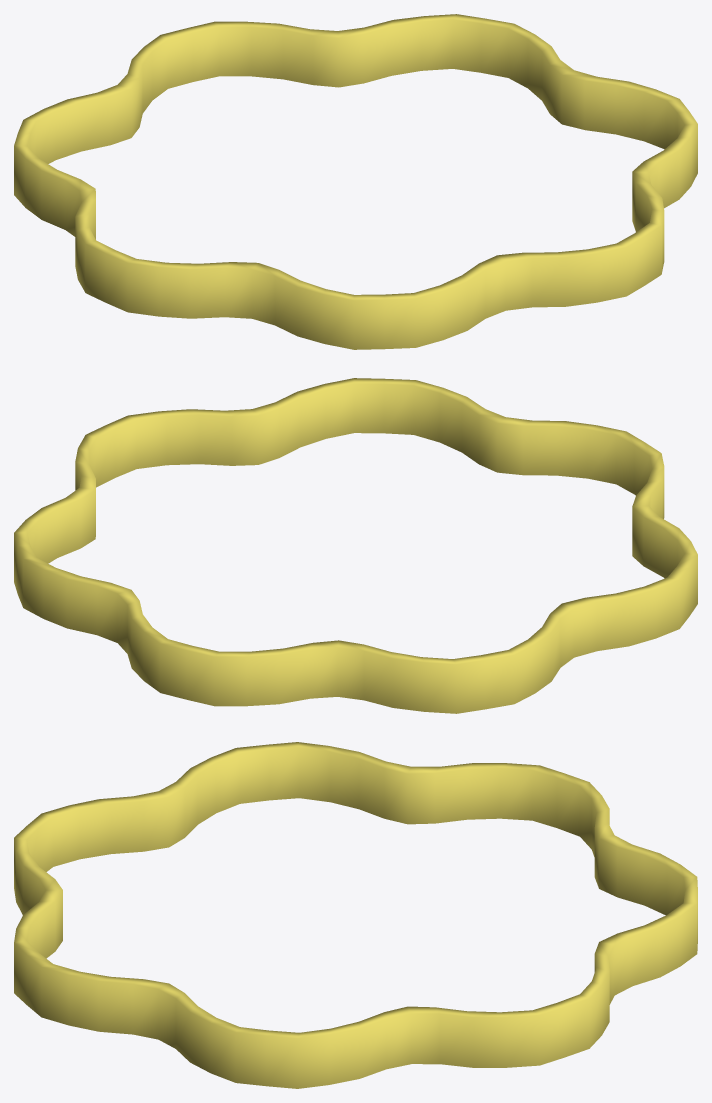
The model's file is WallsEnclosed.fbx.
The picture shows the model from 3 angles, top to bottom: view 1: azimuth 30°, elevation 25°; view 2: azimuth 150°, elevation 25°; view 3: azimuth 270°, elevation 25°; orthographic projection. The views are drawn at different scales.
Visible parts, largest first — view 1: WallsConnected; view 2: WallsConnected; view 3: WallsConnected.
Boxes of the visible parts, x1,y1,x2,y2 form: WallsConnected: (14, 14, 697, 349); WallsConnected: (14, 378, 697, 713); WallsConnected: (14, 742, 697, 1088).
Bounding box in the file's own units: 12610 × 1001 × 12291.
